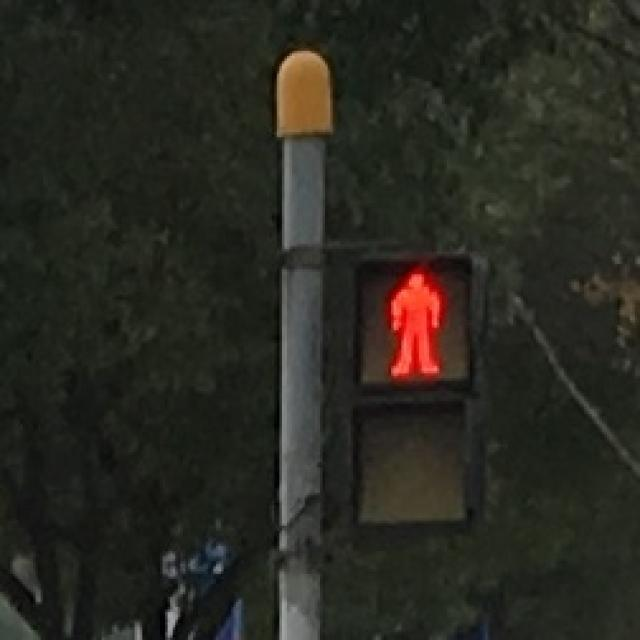red-crossing: (363, 262, 465, 378)
